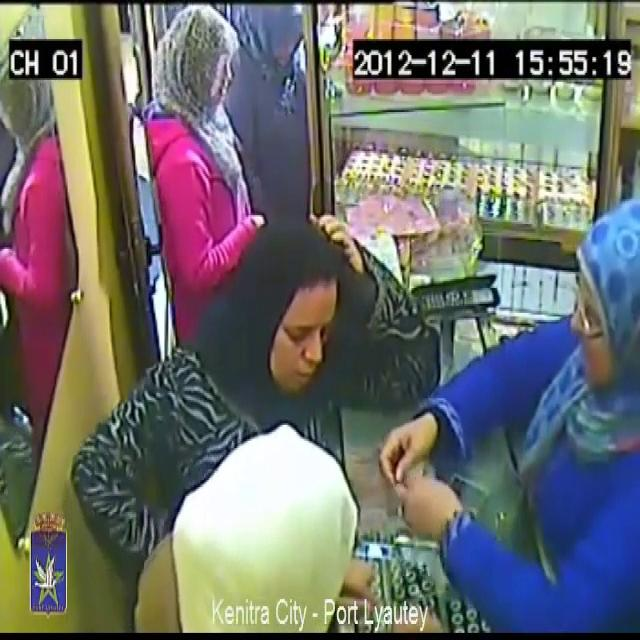normal: (411, 199, 640, 640), (139, 404, 407, 640), (247, 195, 378, 412), (149, 0, 245, 274), (228, 0, 314, 192)
